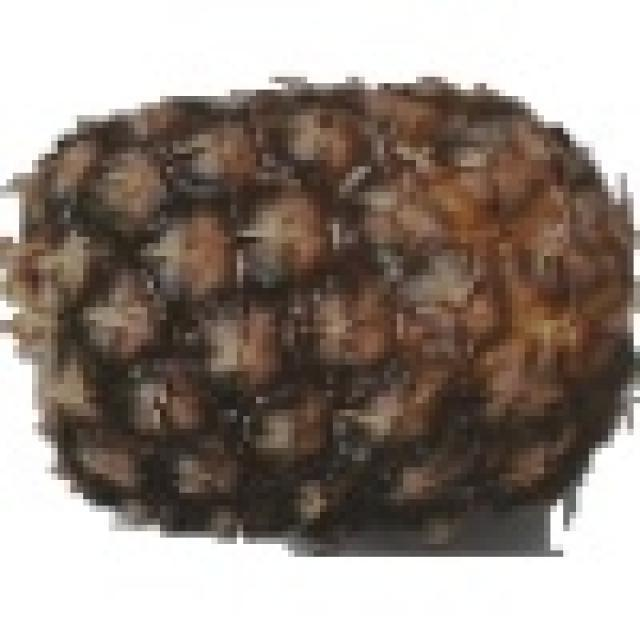pineapple: (6, 70, 614, 538)
